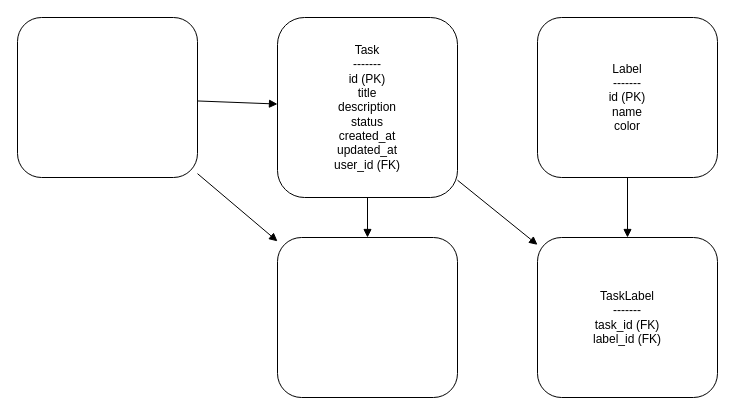
Some shapes in this 735 by 415 pixel diagram are drawn without their labels. Each missing label, with the centre of its shape:
"Comment ------- id (PK) text created_at task_id (FK) user_id (FK)" belongs at [367,317].
"User ------- id (PK) name email password" belongs at [107,97].
